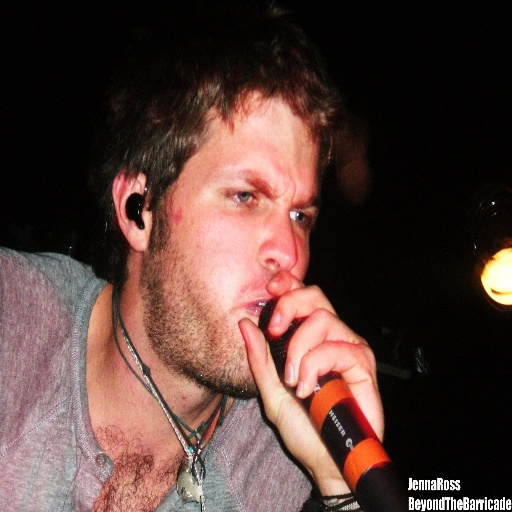hand: (253, 280, 390, 504)
